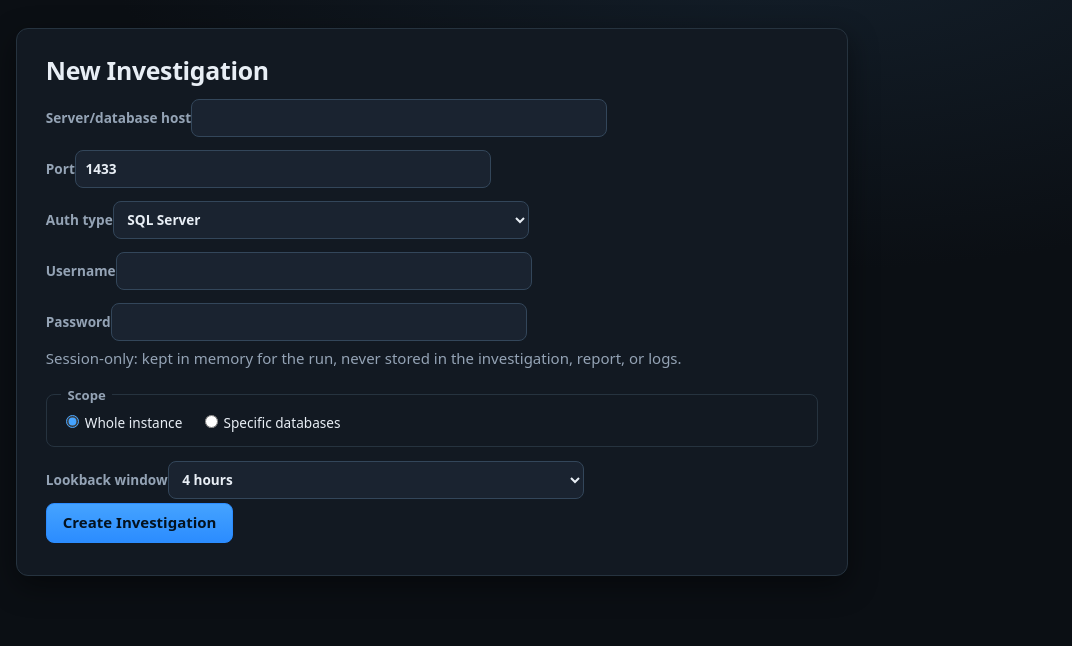
Test: ConnectionScopeForm › rejects an invalid host with an inline message
The width and height of the screenshot is (1072, 646).
Type "not a host!" into the field labelled "Server/database host". click: (399, 118)
box: [191, 99, 607, 137]
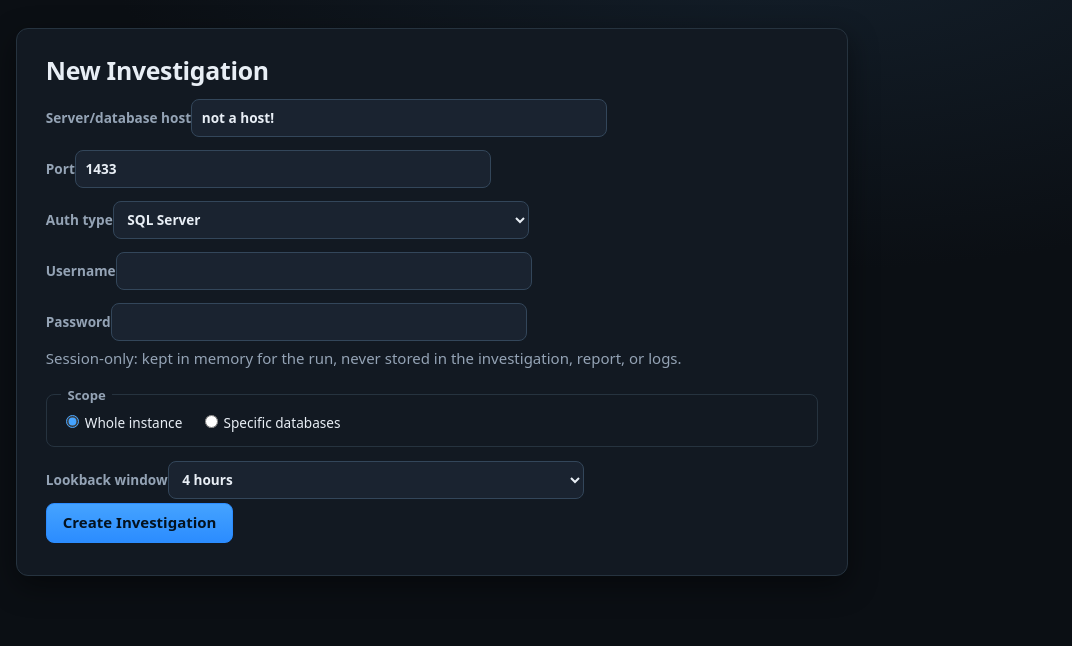
Type "pw" into the password field labelled "Password". click: (319, 322)
box: [111, 303, 527, 341]
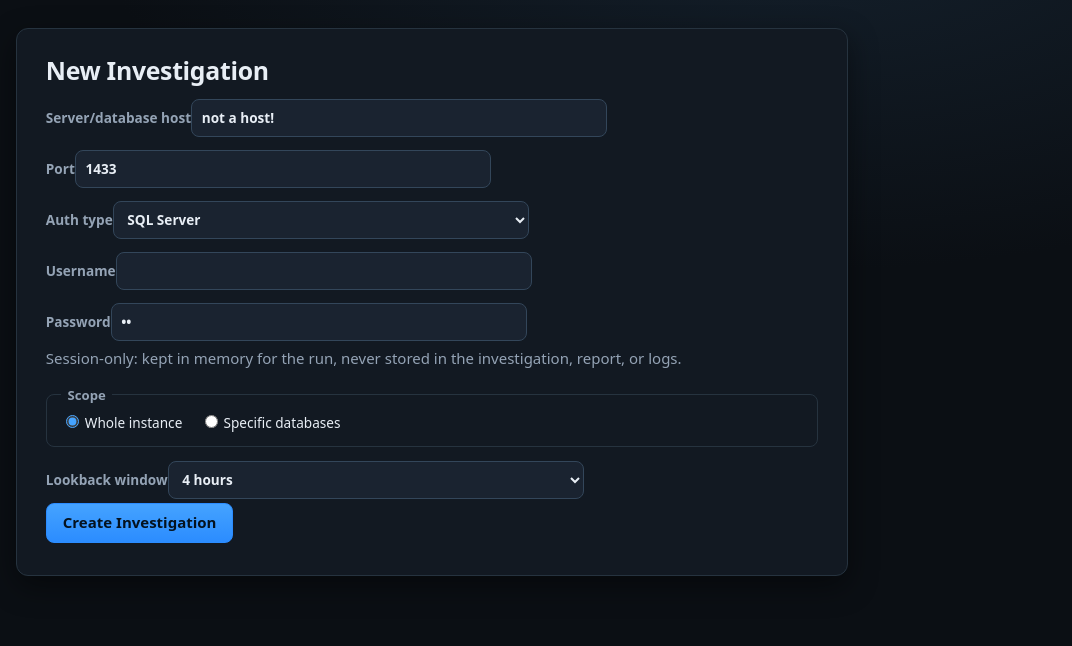
Click the button "Create Investigation". click: (140, 523)
box: [46, 503, 234, 543]
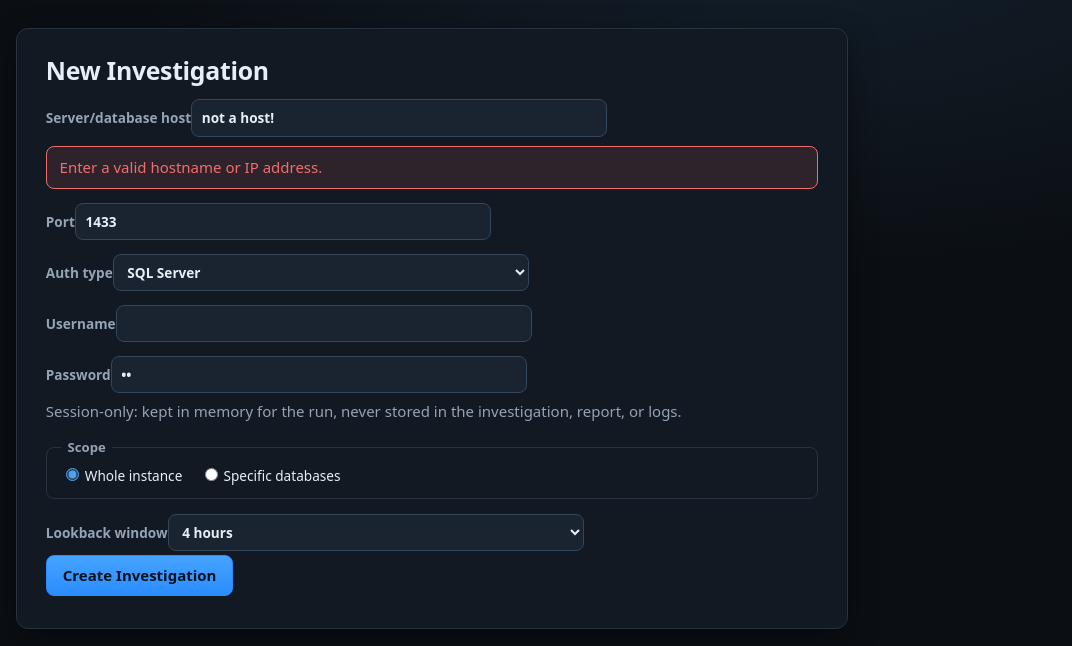
Expected: the text "Enter a valid hostname or IP address." is shown, [46, 146, 818, 189]
